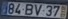3: (45, 5, 52, 16)
4: (14, 3, 20, 15)
7: (53, 5, 60, 17)
8: (7, 2, 14, 14)
B: (23, 3, 33, 15)
V: (33, 4, 43, 16)
